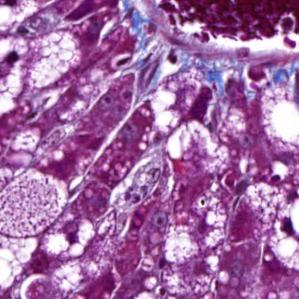ballooning: (2, 27, 83, 120), (265, 183, 299, 273), (167, 121, 232, 168)
